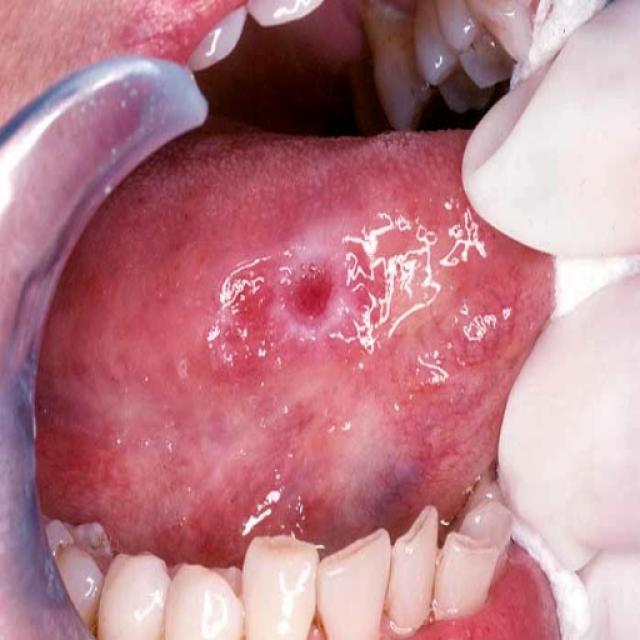cancer-detection: (35, 165, 554, 558)
processing_area: (37, 127, 552, 563)
